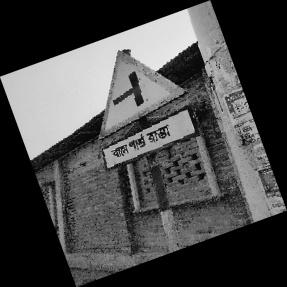Side-road-left: (98, 49, 197, 175)
